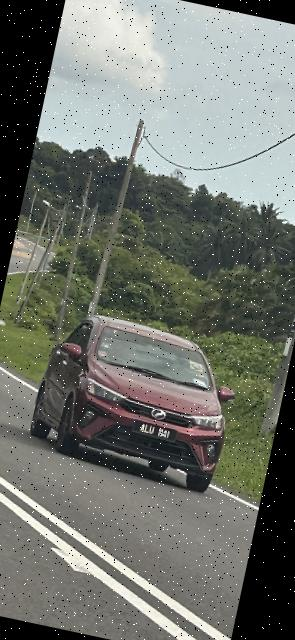License_Plate: (130, 419, 182, 449)
car: (11, 297, 259, 506)
